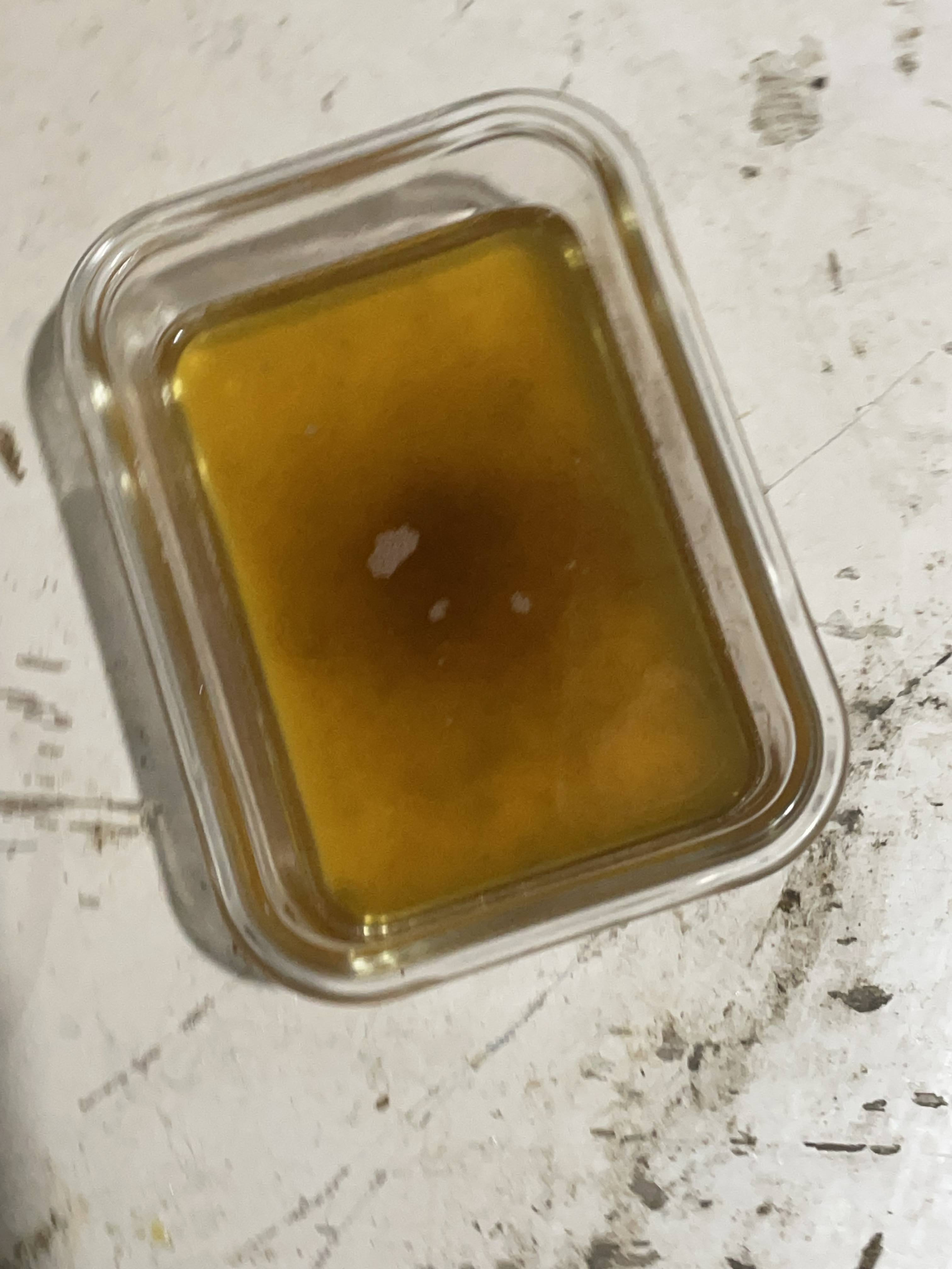reusable: (154, 201, 759, 919)
